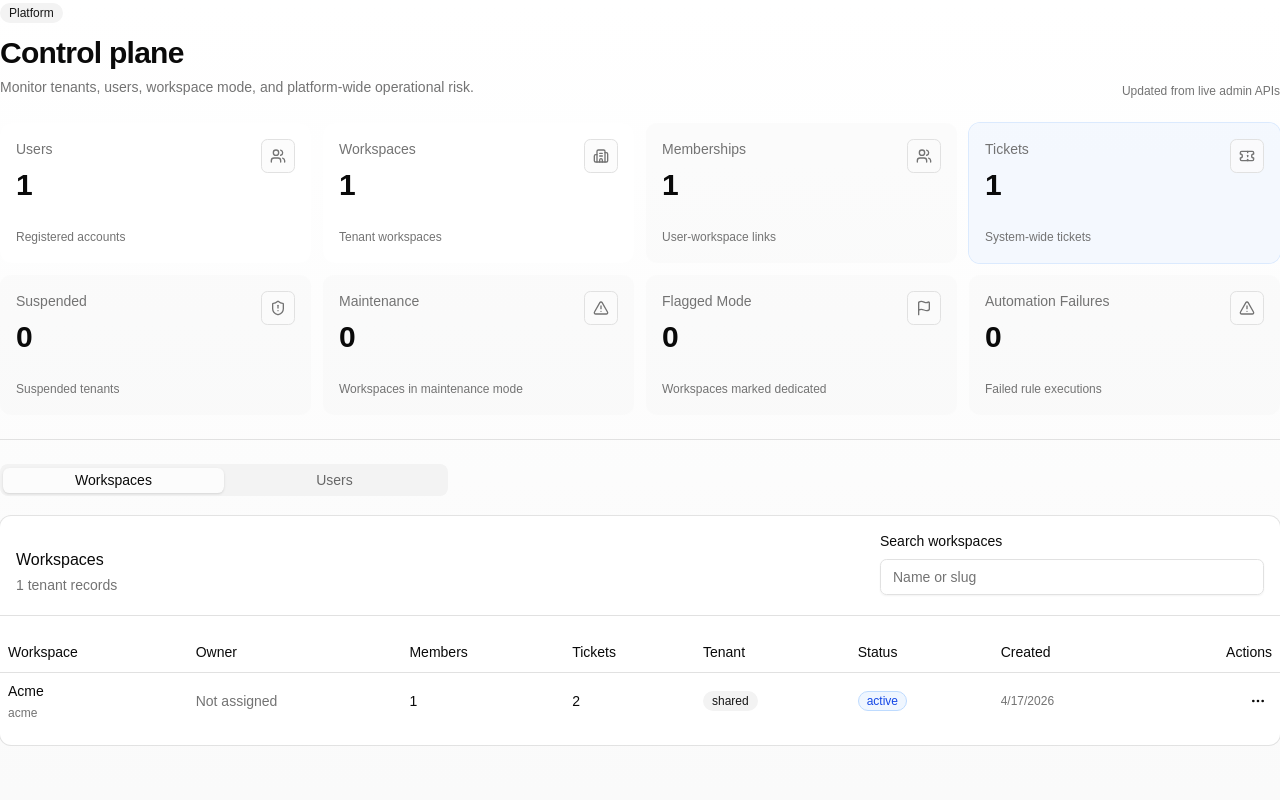
Scenario: AdminDashboardPage › shows parse validation errors for duplicate keys
Expected: the heading "Control plane" is shown, x1=0 y1=36 x2=184 y2=69
Click the button named "Actions for Acme".
click(1258, 701)  # box x1=1244 y1=687 x2=1272 y2=715
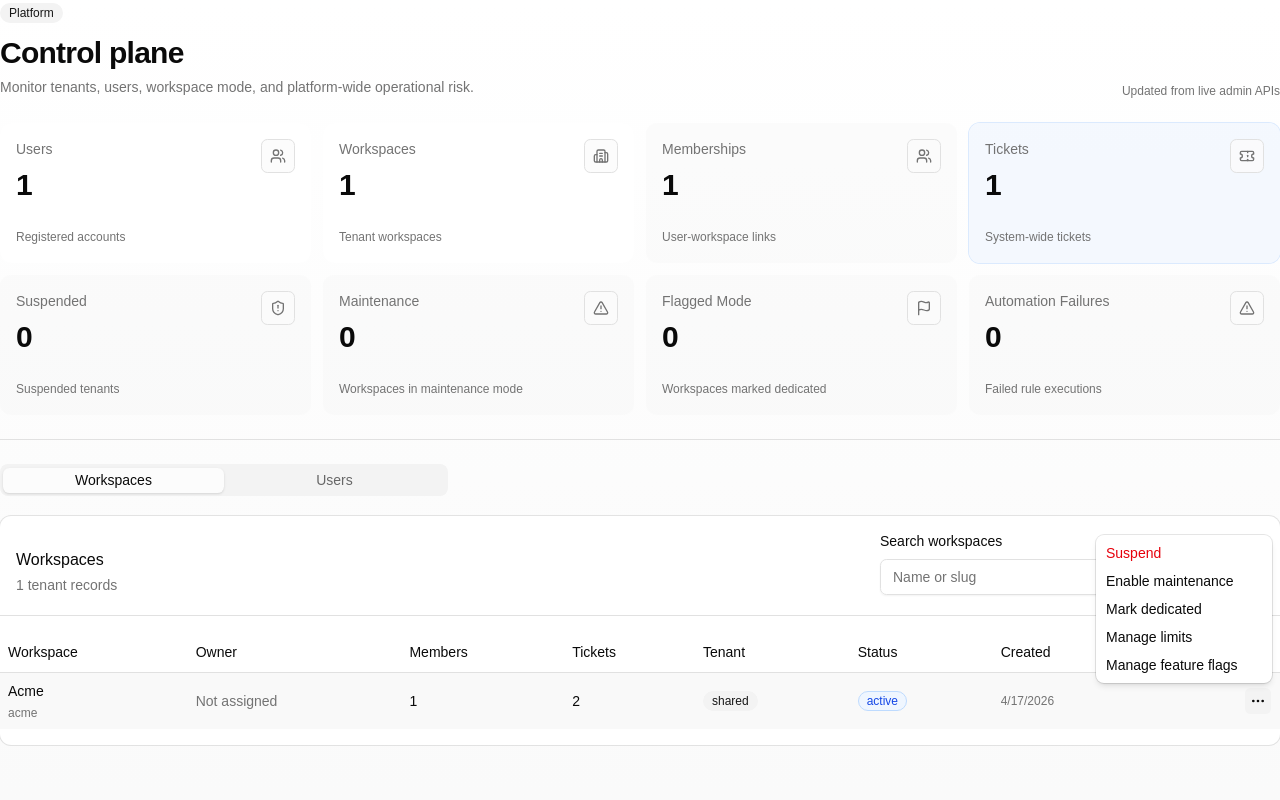
Now the menu item "Manage limits" is shown
Click the menu item "Manage limits".
click(1149, 637)  # box x1=1106 y1=629 x2=1192 y2=645
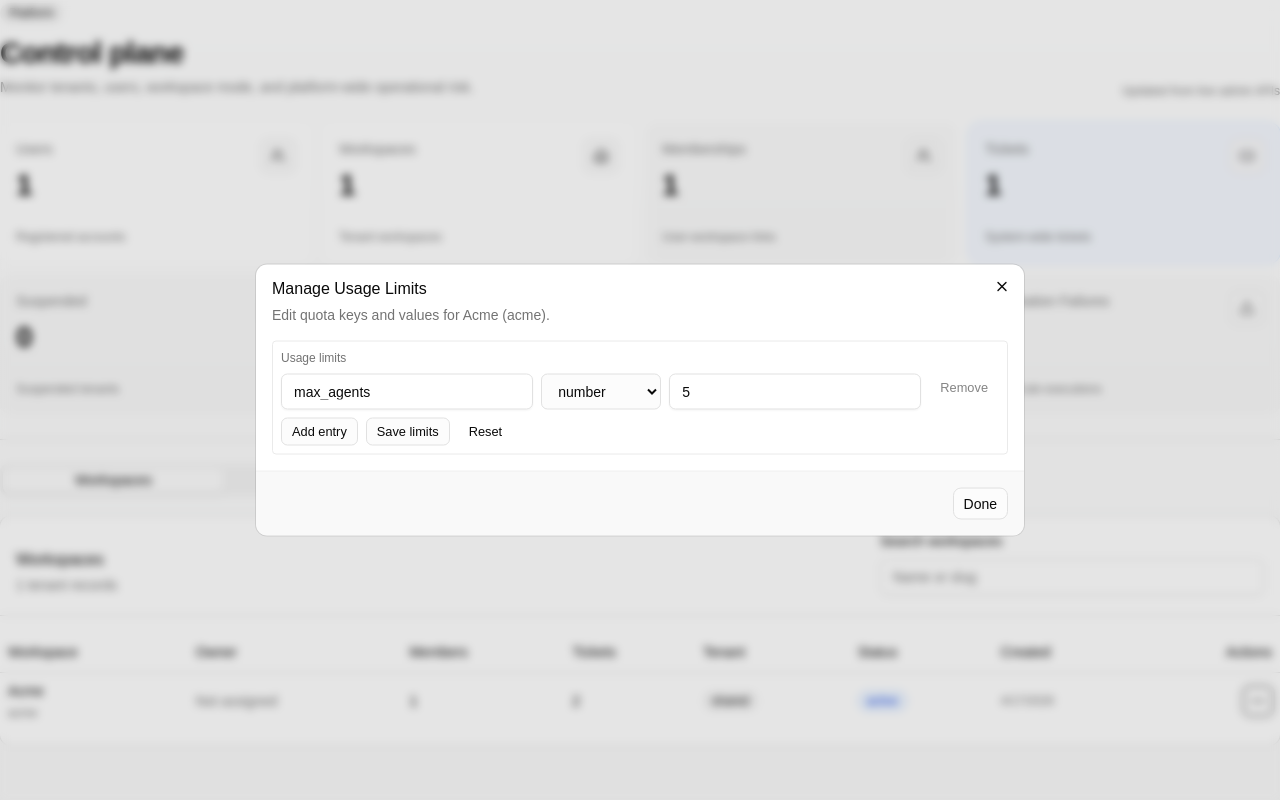
Now the dialog is shown, box x1=256 y1=264 x2=1024 y2=536
Click the button "Add entry".
click(319, 432)  # box x1=281 y1=418 x2=358 y2=446
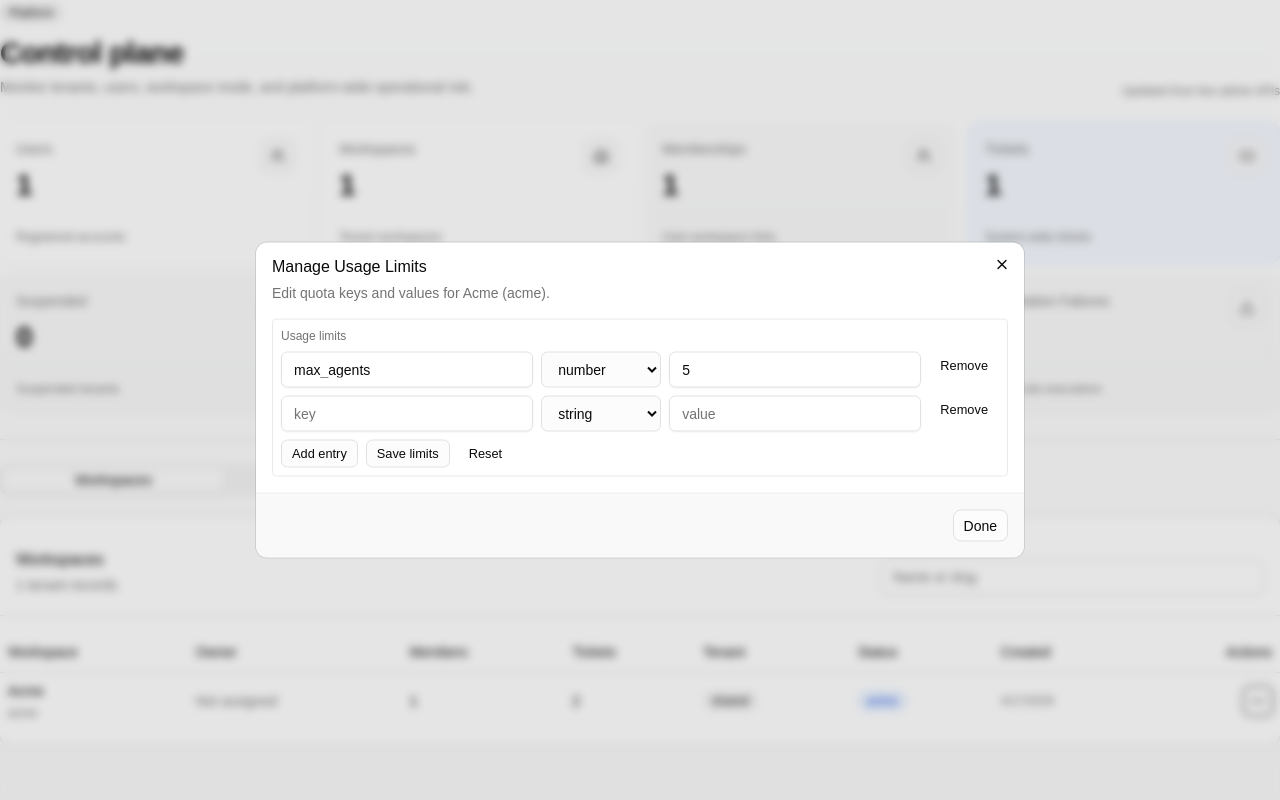
Type "max_agents" into the field named "Usage limits key".
click(407, 414); type("max_agents")  # box x1=281 y1=396 x2=533 y2=432
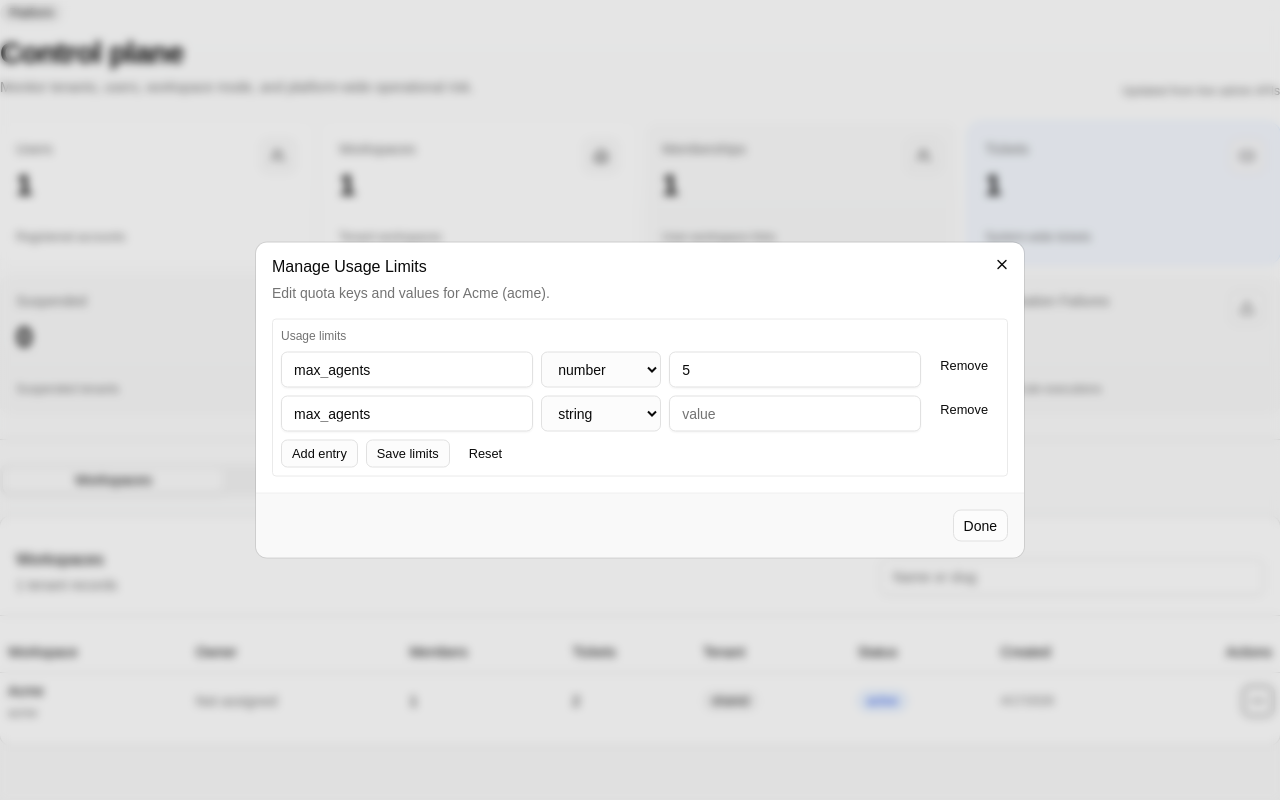
Click the button "Save limits".
click(408, 454)  # box x1=366 y1=440 x2=450 y2=468
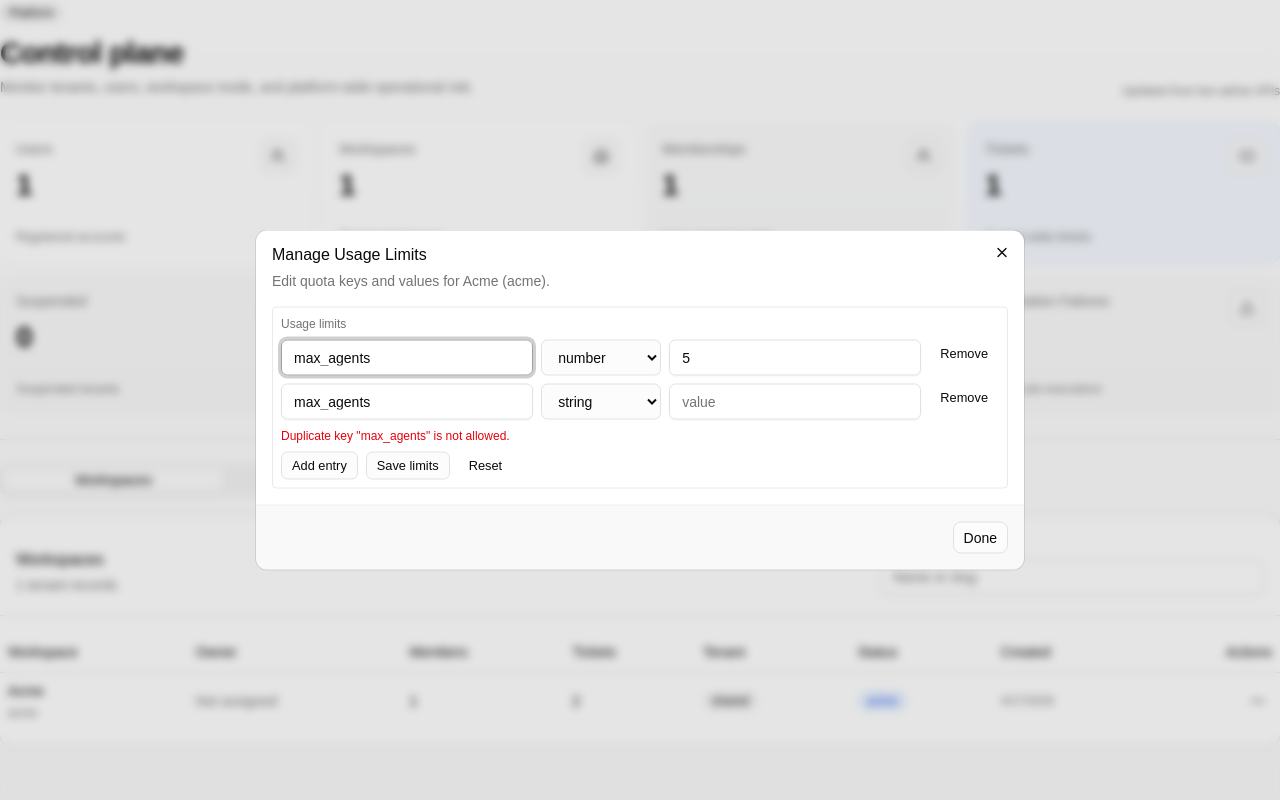
Now the text "Duplicate key \"max_agents\" is not allowed." is shown, box x1=281 y1=428 x2=510 y2=442
